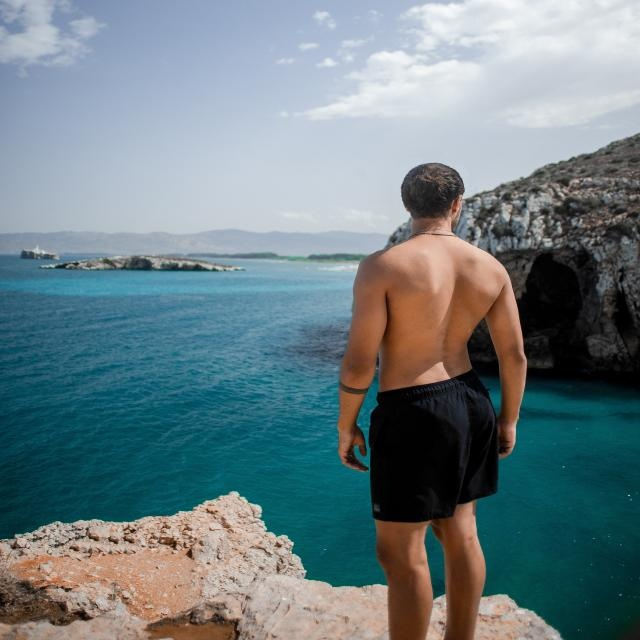Shorts: (367, 366, 501, 527)
